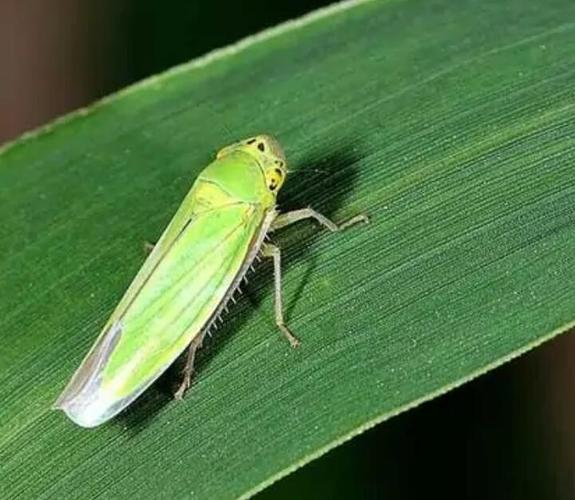Cicadellidae: (54, 129, 291, 431)
